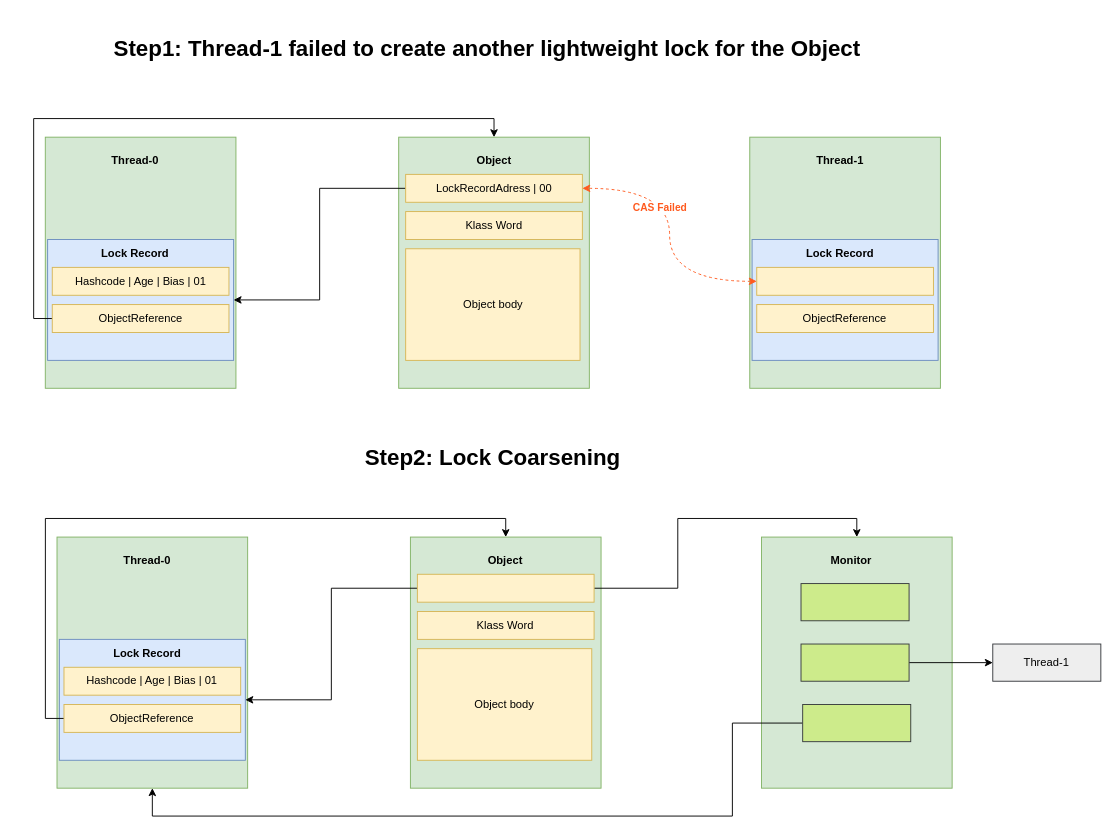
Some shapes in this 1117 by 840 pixel diagram are drawn without their labels. Here are the shapes that lost their labels. From the top down, the centre of each, then its label:
point 844,280: AnotherLockRecordAdress | 00
point 505,587: MonitorAddress | 10
point 854,602: WaitSet
point 854,662: EntryList
point 856,723: Owner
